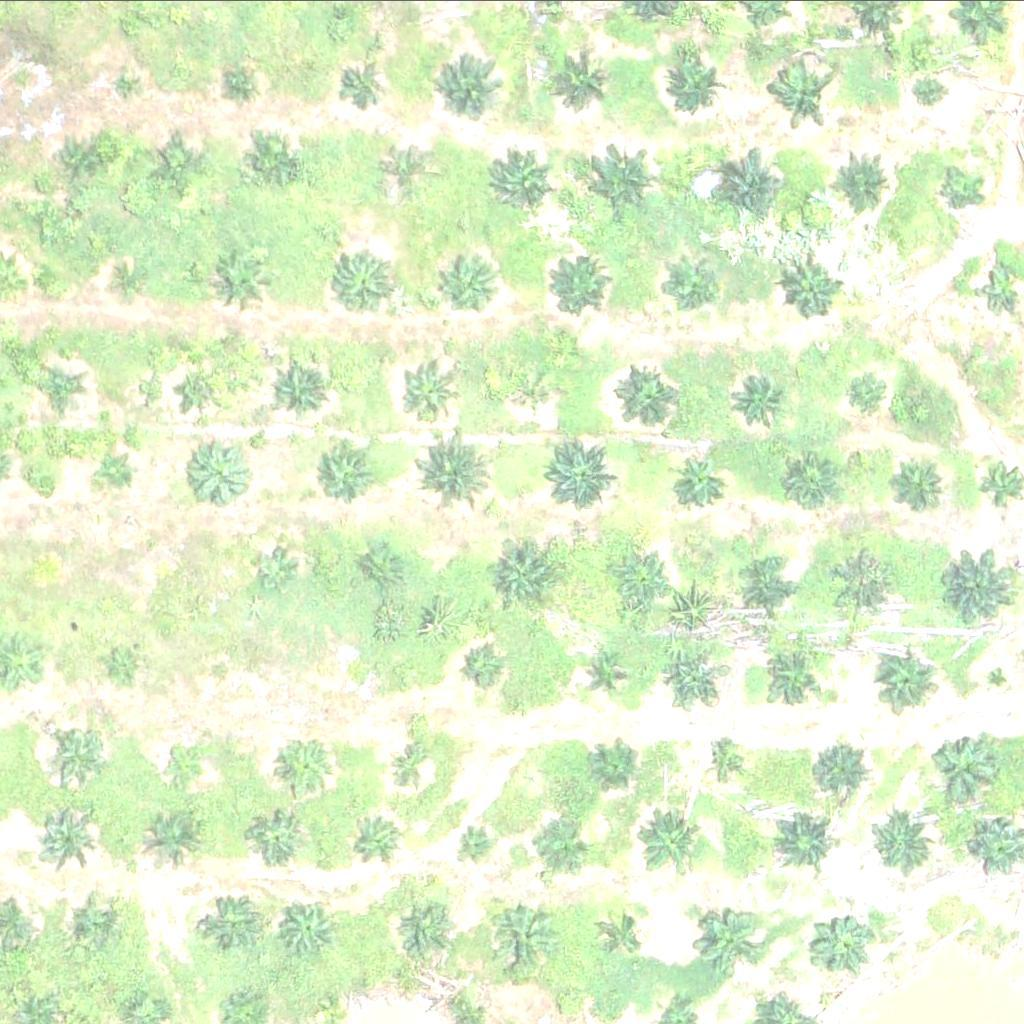Kelapa_Sawit: (478, 897, 554, 972), (668, 46, 744, 121), (587, 143, 663, 218), (440, 50, 516, 125), (542, 42, 618, 117), (940, 550, 1016, 625), (927, 736, 1003, 811), (770, 54, 846, 129), (421, 438, 496, 513), (535, 436, 610, 511), (719, 145, 794, 220), (657, 649, 720, 712), (698, 912, 761, 975), (185, 444, 248, 507), (203, 890, 266, 953), (619, 368, 682, 431), (726, 363, 789, 426), (875, 815, 938, 878), (807, 916, 870, 979), (876, 648, 939, 711), (837, 149, 900, 212), (785, 257, 848, 320), (639, 814, 702, 876), (495, 546, 558, 608), (312, 444, 375, 506), (395, 899, 458, 961), (147, 811, 210, 873), (48, 724, 111, 786), (31, 808, 94, 870), (269, 361, 332, 423), (549, 251, 612, 313), (491, 148, 554, 210), (213, 251, 276, 313), (246, 131, 309, 193), (333, 253, 396, 315), (444, 249, 507, 311), (398, 359, 461, 421), (835, 550, 898, 612), (147, 132, 210, 194), (282, 894, 344, 956), (777, 809, 839, 871), (805, 742, 867, 804), (622, 556, 673, 606), (673, 461, 724, 511), (35, 368, 86, 418), (786, 457, 837, 507), (935, 157, 986, 207), (844, 364, 895, 414), (339, 62, 390, 112), (744, 561, 794, 611), (250, 810, 300, 860), (282, 740, 332, 790), (545, 827, 595, 877), (667, 262, 717, 312), (897, 462, 947, 512), (767, 657, 817, 707), (384, 147, 434, 197), (592, 741, 642, 791), (601, 910, 651, 960), (178, 367, 228, 417), (69, 896, 119, 946), (354, 815, 404, 865), (913, 74, 951, 112), (713, 737, 751, 775), (456, 824, 494, 862), (109, 62, 147, 100), (61, 138, 99, 176), (114, 259, 152, 297), (167, 747, 205, 785), (350, 649, 388, 687), (392, 743, 430, 781), (366, 545, 404, 582), (515, 370, 553, 407), (588, 659, 626, 696), (464, 644, 501, 682), (98, 453, 136, 490), (104, 645, 141, 682), (254, 550, 291, 587), (225, 73, 251, 98), (551, 996, 576, 1021)
